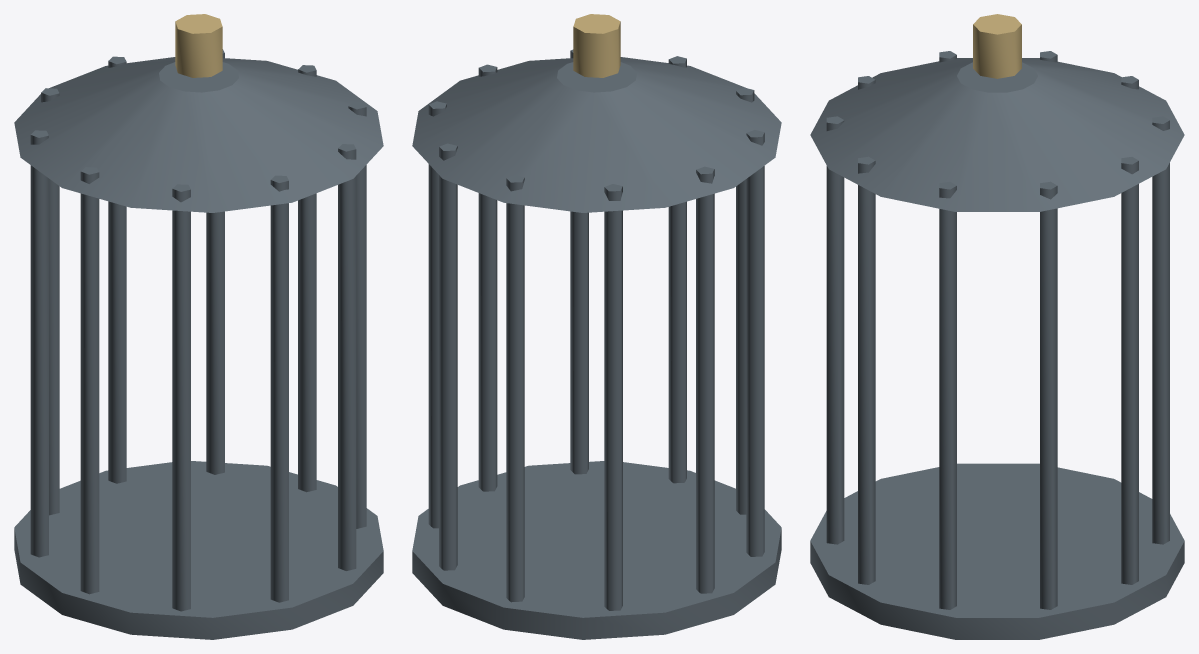
The model's file is cage.glb.
The picture shows the model from 3 angles, left to right: view 1: azimuth 30°, elevation 25°; view 2: azimuth 150°, elevation 25°; view 3: azimuth 270°, elevation 25°; orthographic projection.
Visible parts, largest first — view 1: cage_Palette; view 2: cage_Palette; view 3: cage_Palette.
Boxes of the visible parts, <box> form: cage_Palette: <box>14,14,383,639</box>; cage_Palette: <box>412,14,781,639</box>; cage_Palette: <box>810,14,1184,639</box>.
Bounding box in the file's own units: 0.4485 × 0.73 × 0.46.
